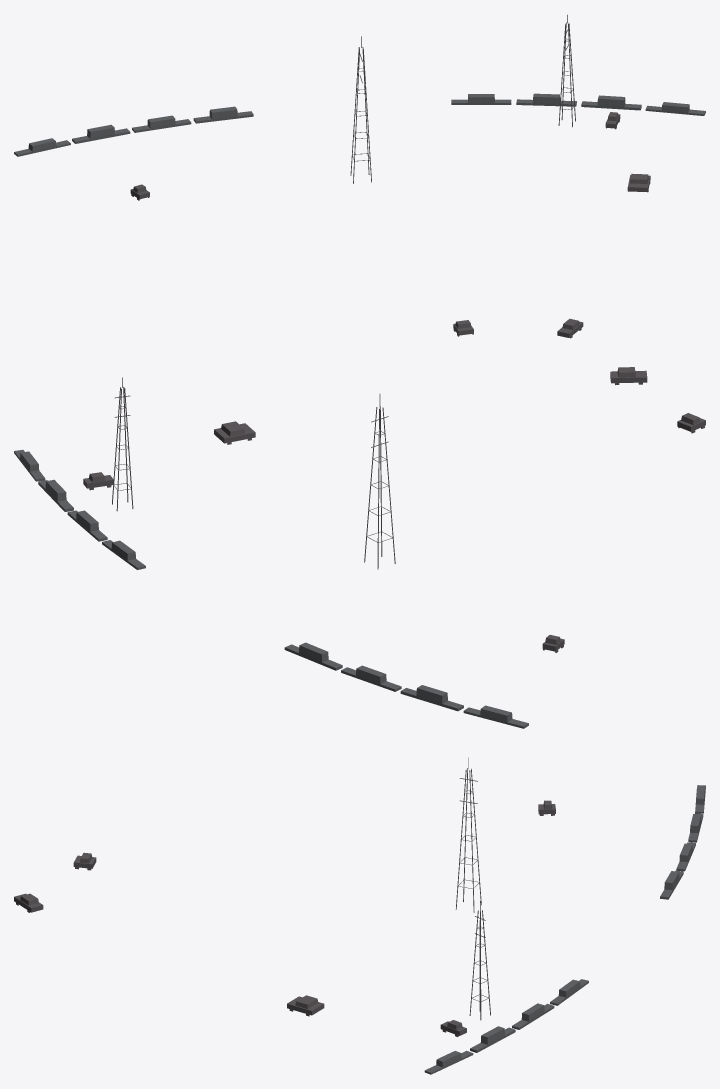
File: SM_City_AlTariqAlMasdud_1.fbx
3 views of the same model, one above another, from view 1: azimuth 30°, elevation 25°; view 2: azimuth 150°, elevation 25°; view 3: azimuth 270°, elevation 25° (orthographic). The views are drawn at different scales.
Parts seen in each view (by area): view 1: SM_City_AlTariqAlMasdud_1; view 2: SM_City_AlTariqAlMasdud_1; view 3: SM_City_AlTariqAlMasdud_1.
Part boxes in pixels (x1=…): SM_City_AlTariqAlMasdud_1: x1=14, y1=14, x2=705, y2=338; SM_City_AlTariqAlMasdud_1: x1=14, y1=367, x2=705, y2=728; SM_City_AlTariqAlMasdud_1: x1=14, y1=757, x2=705, y2=1074.
Bounding box in the file's own units: 8943 × 2175 × 9089.
2 materials, 2 textured.
